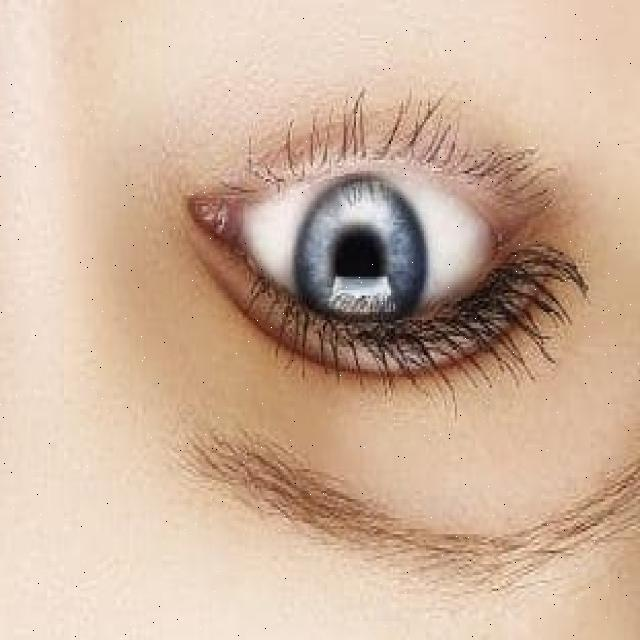Normal: (291, 175, 427, 345)
